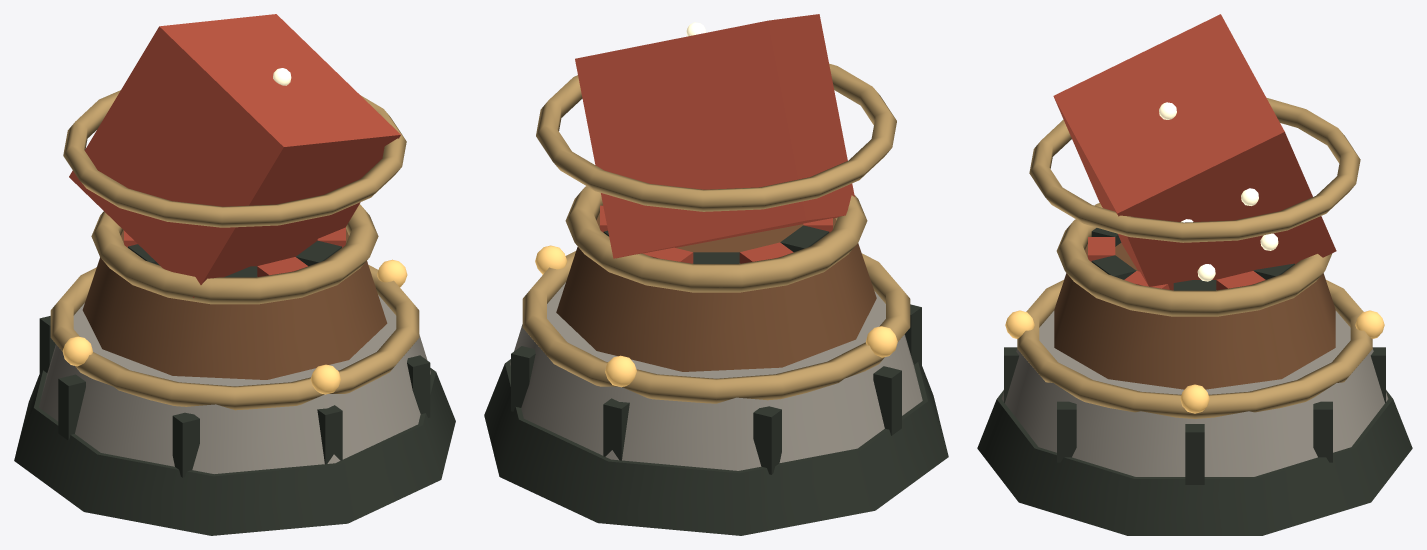
File: tower_gamble_gambleFate.glb
3 views of the same model, side by side, from view 1: azimuth 30°, elevation 25°; view 2: azimuth 150°, elevation 25°; view 3: azimuth 270°, elevation 25° (orthographic). The views are drawn at different scales.
Visible parts, largest first — view 1: die_29, foot_0, stone_1, table_15, rim_2, fate_ring_35, roulette_rim_16, mortar_6, mortar_7, mortar_5, mortar_4, mortar_8 (+5 smaller); view 2: die_29, foot_0, stone_1, table_15, rim_2, fate_ring_35, roulette_rim_16, mortar_8, mortar_7, mortar_9, mortar_10, rivet_14 (+6 smaller); view 3: die_29, foot_0, stone_1, table_15, fate_ring_35, rim_2, roulette_rim_16, mortar_3, mortar_4, mortar_10, rivet_11, pocket_22 (+6 smaller).
Part boxes in pixels (<box>): die_29: <box>69,14,400,297</box>; foot_0: <box>14,368,455,535</box>; stone_1: <box>39,295,430,473</box>; table_15: <box>82,229,387,379</box>; rim_2: <box>50,265,419,410</box>; fate_ring_35: <box>63,90,406,227</box>; roulette_rim_16: <box>91,204,378,304</box>; mortar_6: <box>172,412,199,477</box>; mortar_7: <box>58,374,85,440</box>; mortar_5: <box>317,405,342,464</box>; mortar_4: <box>407,355,430,417</box>; mortar_8: <box>39,316,55,374</box>; die_29: <box>575,14,854,258</box>; foot_0: <box>484,359,948,535</box>; stone_1: <box>510,282,922,470</box>; table_15: <box>556,213,876,371</box>; rim_2: <box>522,251,910,403</box>; fate_ring_35: <box>536,63,896,211</box>; roulette_rim_16: <box>565,186,867,292</box>; mortar_8: <box>753,406,781,474</box>; mortar_7: <box>873,366,901,435</box>; mortar_9: <box>603,398,629,460</box>; mortar_10: <box>511,346,535,411</box>; rivet_14: <box>605,355,636,387</box>; die_29: <box>1053,14,1336,290</box>; foot_0: <box>977,390,1412,535</box>; stone_1: <box>1001,311,1388,476</box>; table_15: <box>1054,243,1335,389</box>; fate_ring_35: <box>1029,97,1360,242</box>; rim_2: <box>1017,280,1372,418</box>; roulette_rim_16: <box>1056,203,1332,316</box>; mortar_3: <box>1185,424,1204,484</box>; mortar_4: <box>1057,401,1076,462</box>; mortar_10: <box>1313,401,1332,462</box>; rivet_11: <box>1180,384,1209,413</box>; pocket_22: <box>1091,255,1136,279</box>.
Bounding box in the file's own units: 0.5326 × 0.5747 × 0.56.
